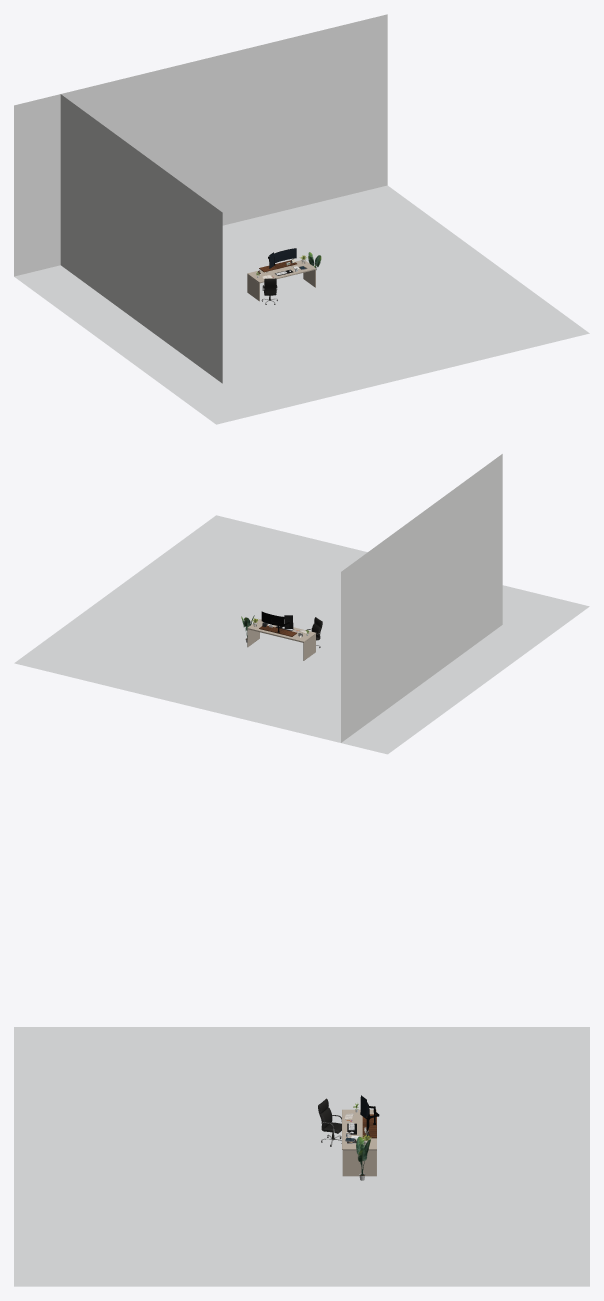
The model's file is workstation.glb.
3 renders of one model, top to bottom at view 1: azimuth 30°, elevation 25°; view 2: azimuth 150°, elevation 25°; view 3: azimuth 270°, elevation 25°, orthographic. The views are drawn at different scales.
Parts seen in each view (by area): view 1: Studio floor, Studio rear wall, Studio side wall, PC Desk frame and worktop; view 2: Studio floor, Studio side wall, PC Desk frame and worktop; view 3: Studio floor, PC Desk frame and worktop.
Part boxes in pixels (x1,y1,x2,y2): Studio floor: (14, 185, 589, 424); Studio rear wall: (14, 14, 387, 276); Studio side wall: (60, 94, 222, 383); PC Desk frame and worktop: (247, 260, 316, 301); Studio floor: (14, 515, 589, 754); Studio side wall: (341, 454, 502, 742); PC Desk frame and worktop: (247, 619, 316, 660); Studio floor: (14, 1027, 589, 1286); PC Desk frame and worktop: (342, 1109, 376, 1176).
Bounding box in the file's own units: 16 × 7 × 15.
Materials: 55 (33 with a texture image).
